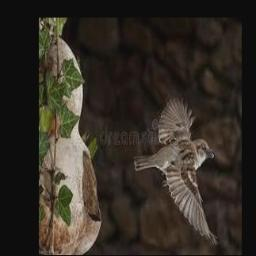Sparrow: (133, 96, 219, 246)
